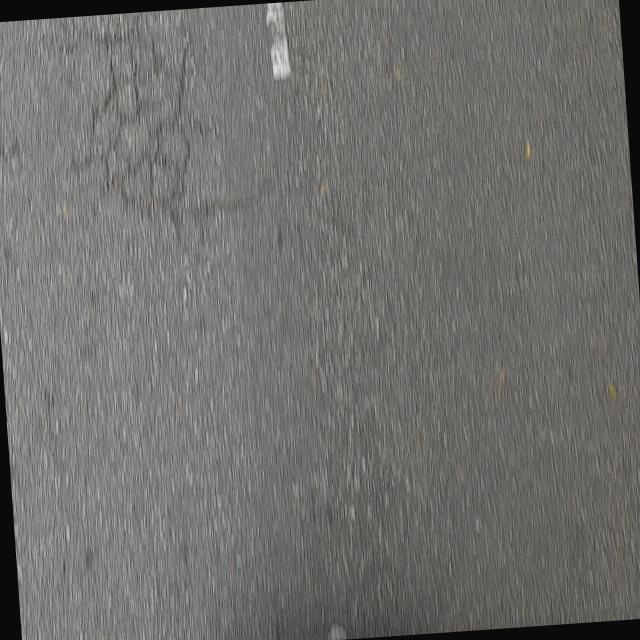Retak-Buaya: (89, 12, 189, 222)
